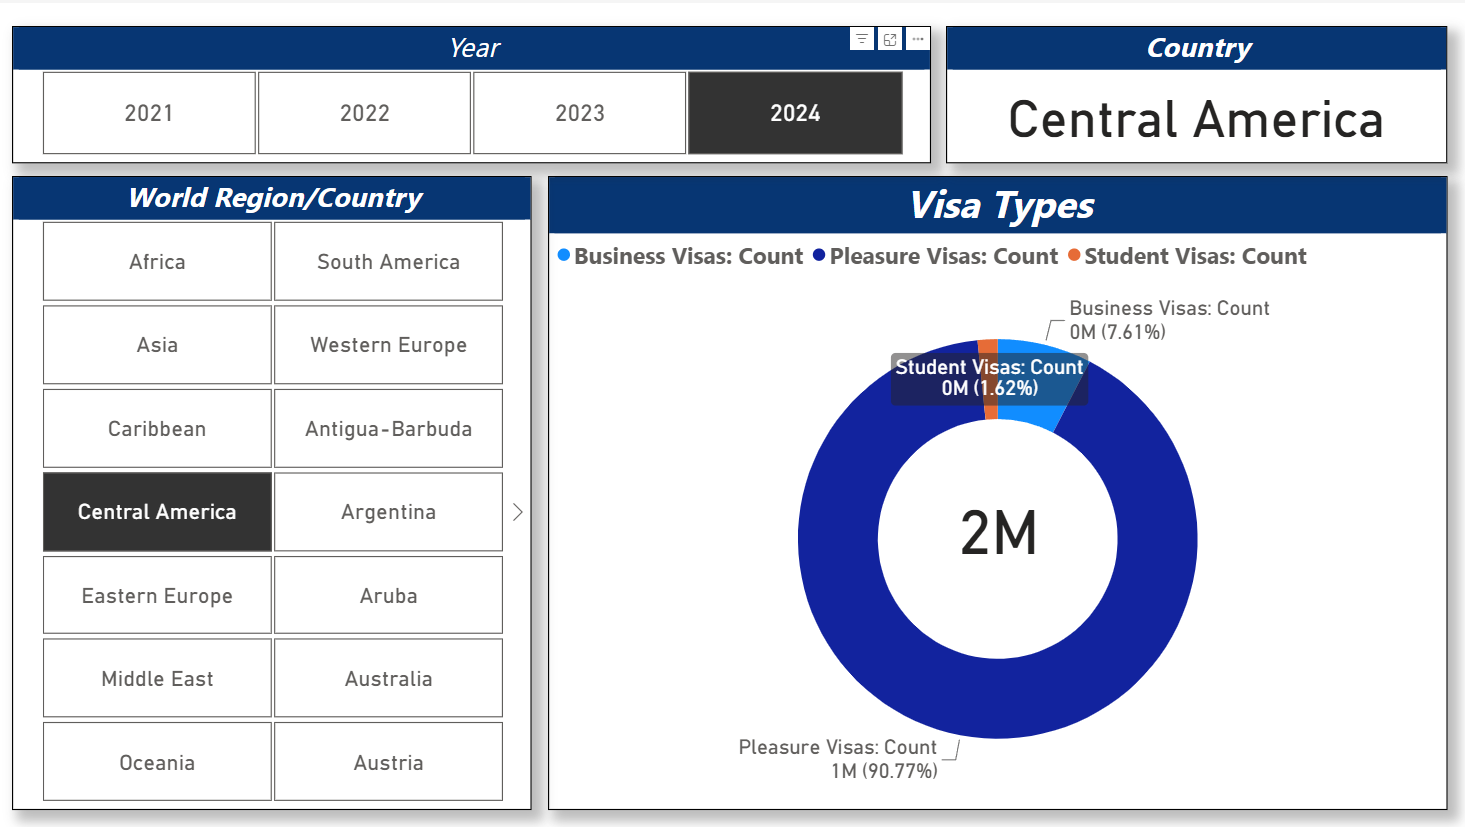

What the dashboard file says about the page in this screenshot:
{"tool":"powerbi","page":{"name":"Visa Types","canvas":[1280,720],"ordinal":3},"visuals":[{"type":"donutChart","title":"Visa Types","fields":{"Y":["Sum(Visa_Types3.Business Visas: Count)","Sum(Visa_Types3.Pleasure Visas: Count)","Sum(Visa_Types3.Student Visas: Count)"]},"box":[478.5,151.4,785.9,554.2],"z":0},{"type":"slicer","title":"Year","fields":{"Values":["Visa_Types3.Year"]},"box":[10.6,19.7,802.5,119.6],"z":1000},{"type":"slicer","title":"World Region/Country","fields":{"Values":["Visa_Types3.World Region/Country of Residence"]},"box":[10.6,151.4,454.3,554.2],"z":2000},{"type":"card","title":"Country","fields":{"Values":["Min(Visa_Types3.World Region/Country of Residence)"]},"box":[826.8,19.7,437.6,119.6],"z":3000},{"type":"card","fields":{"Values":["Sum(Visa_Types3.Total Arrivals: Count)"]},"box":[790.4,417.9,163.5,75.7],"z":4000}]}

Visuals, with their boxes in screenshot pixels (x1, y1, x2, y2), scaled from the page's 1280x720 canvas onto the 1465x835 screenshot:
"Visa Types" donutChart: <bbox>548, 176, 1447, 818</bbox>
"Year" slicer: <bbox>12, 23, 931, 162</bbox>
"World Region/Country" slicer: <bbox>12, 176, 532, 818</bbox>
"Country" card: <bbox>946, 23, 1447, 162</bbox>
card - Sum(Visa_Types3.Total Arrivals: Count): <bbox>905, 485, 1092, 572</bbox>
